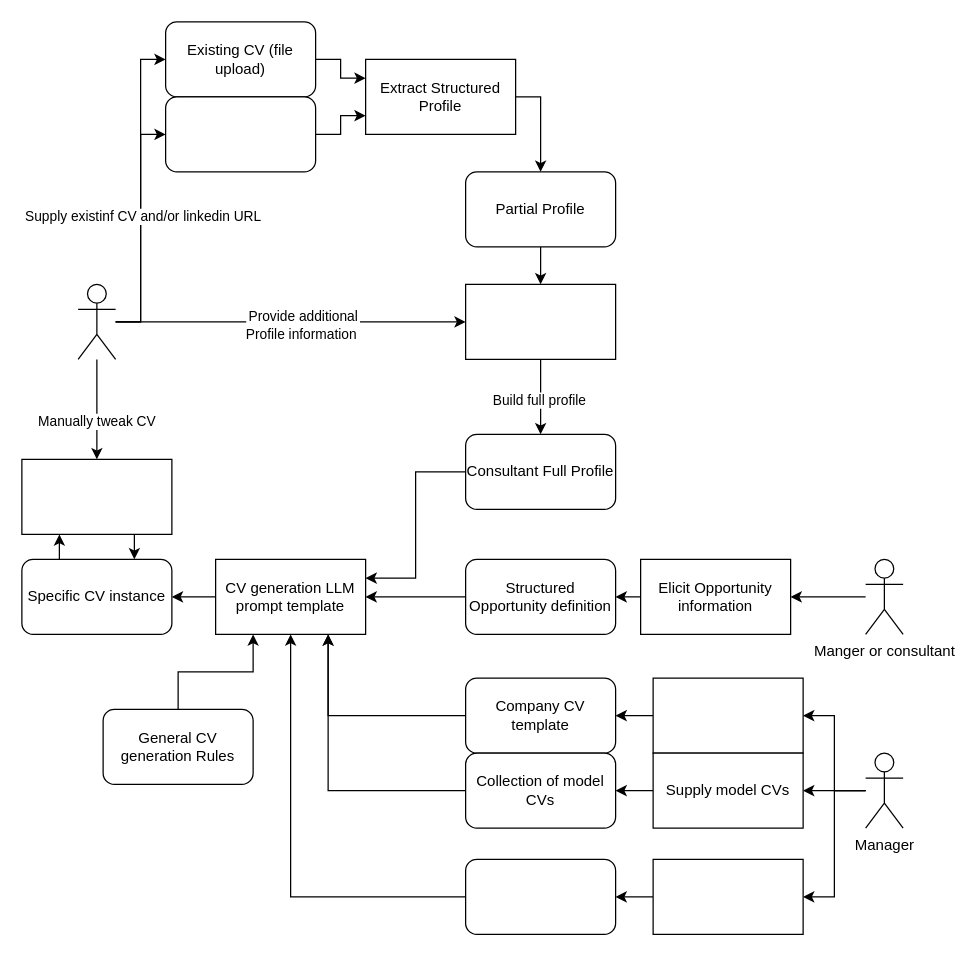
This 976x956 diagram has some shape labels left out. The shapes that lost their labels are listed below. From the top down, each one's box as (x1, y1, x2, y2) in pixels, then its label:
(164, 96, 316, 172): LinkedIn profile or similar (url)
(77, 283, 116, 359): Consultant
(464, 283, 616, 359): Elicit full profile (Agent or dynamic form)
(21, 458, 172, 534): Edit CV details
(652, 677, 803, 753): Create company CV template
(464, 858, 616, 934): Company specific CV ruleset
(652, 858, 803, 934): Manange company CV ruleset
